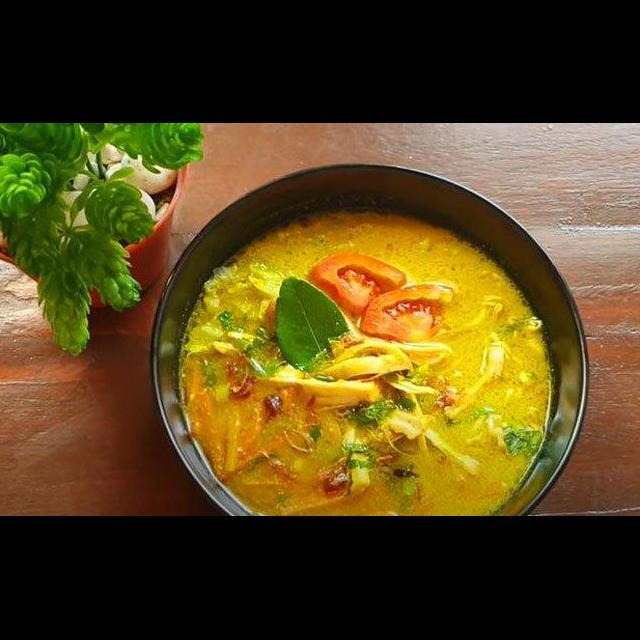Soto: (176, 204, 555, 515)
